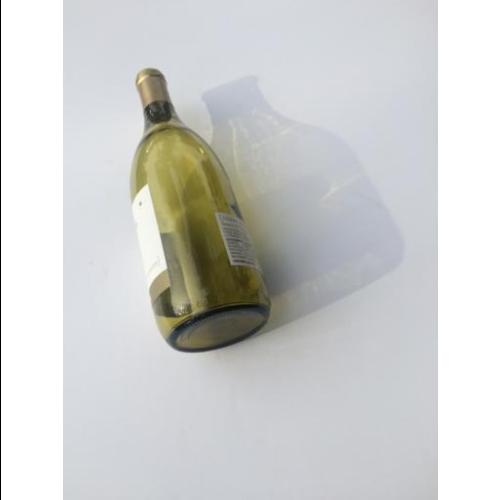glass: (128, 79, 273, 348)
